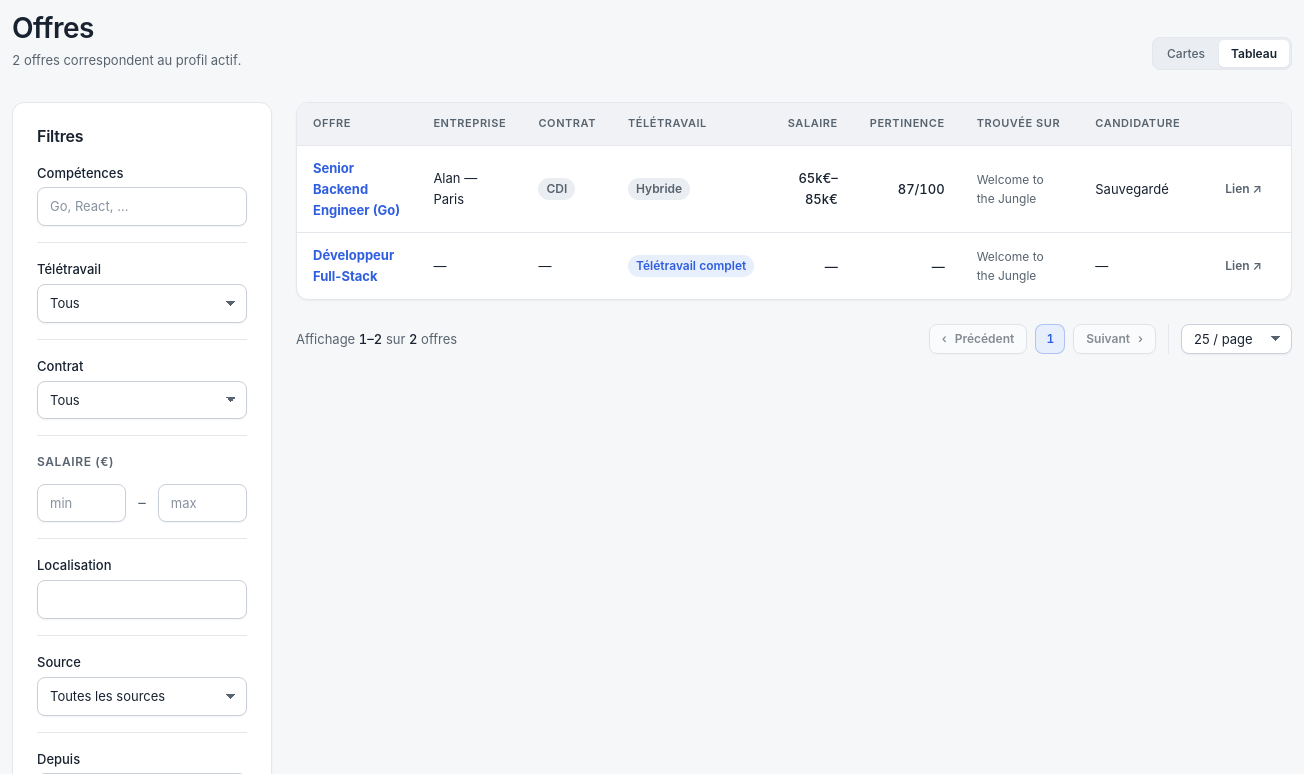
Test: JobsPage › renders application status in French when present
Expected: the link "Senior Backend Engineer (Go)" is shown, 313,160 -> 400,218
Note: Status line is card-view markup — switch from the default table view.
Click the button "Cartes".
click(1186, 54)  # box 1155,40 -> 1217,67
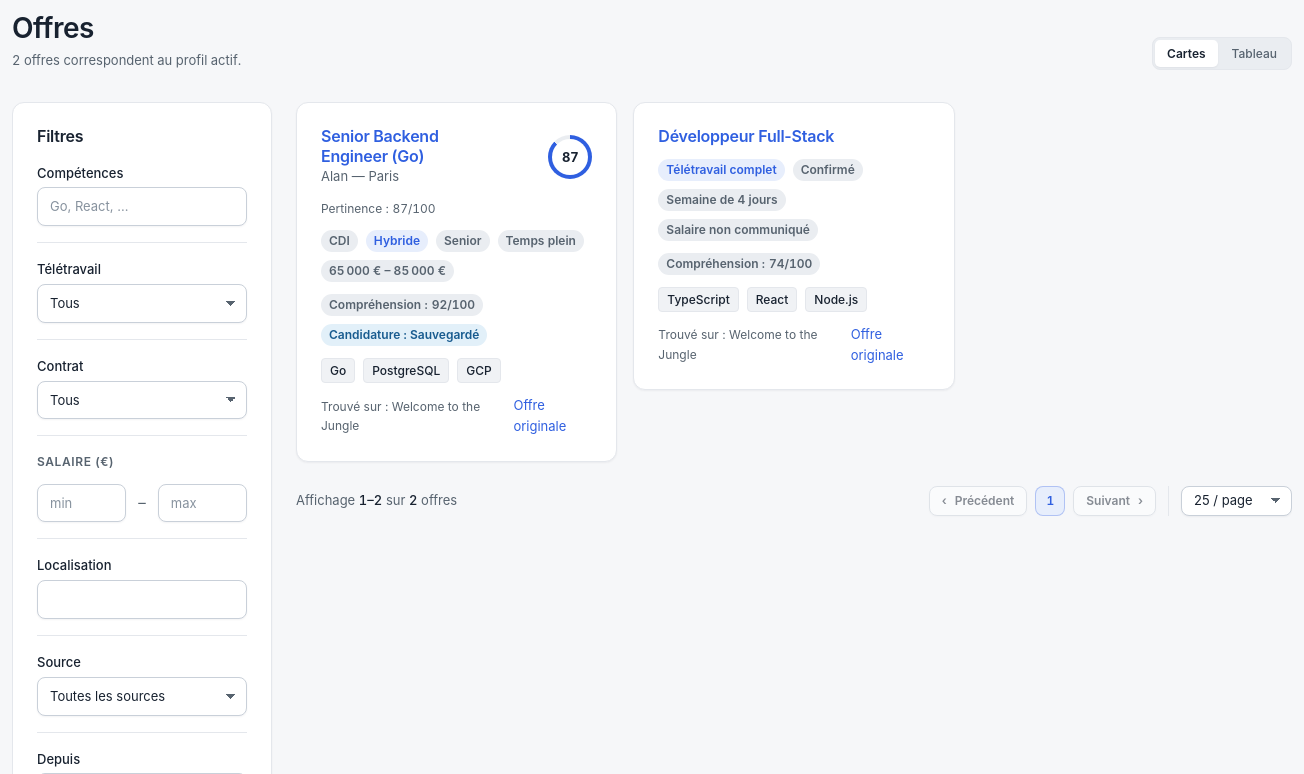
Expected: the text "Candidature : Sauvegardé" is shown, 321,324 -> 487,346
